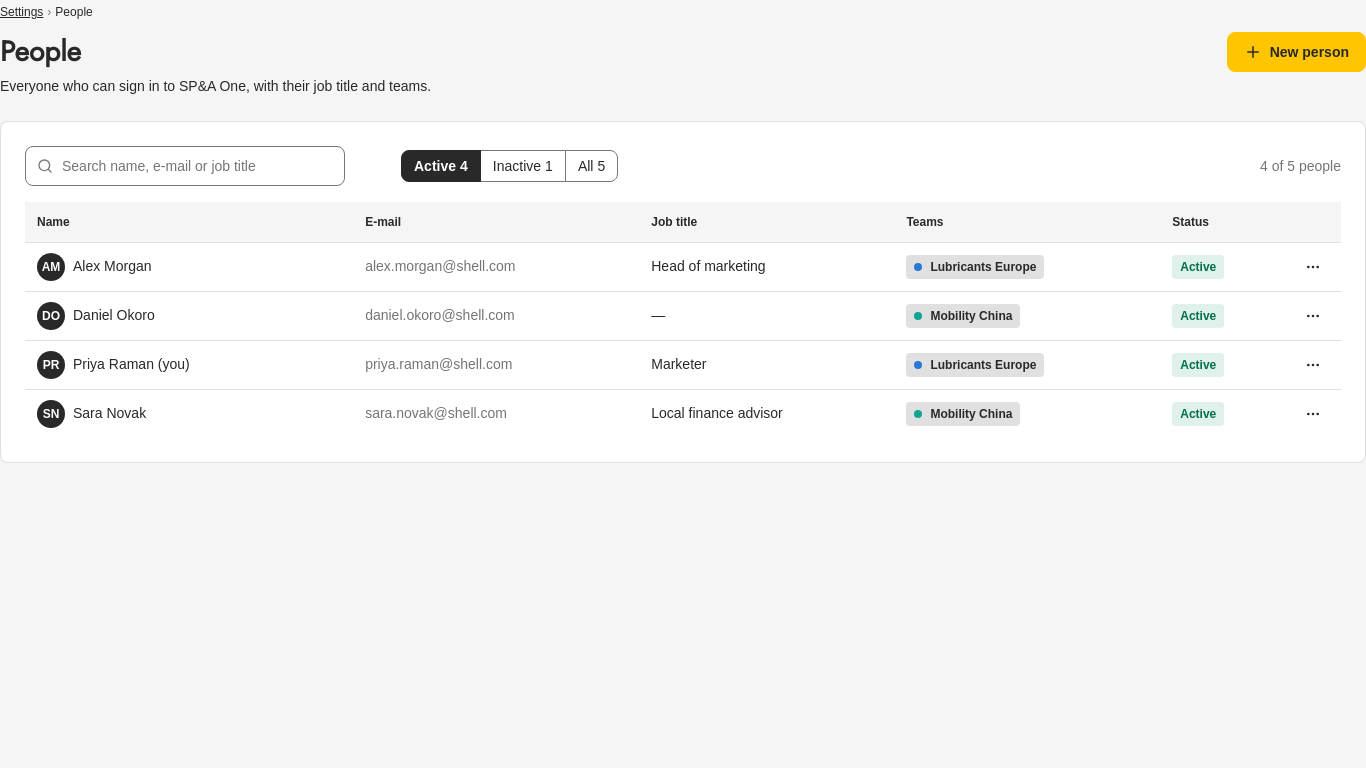
Test: PeoplePage (feature 003, US1): Deactivate and Reactivate › asks before deactivating, with what the person owns and Cancel focused (US1-5)
Click the button named "Actions for Alex Morgan". click: click(1313, 266)
box: [1297, 250, 1329, 282]
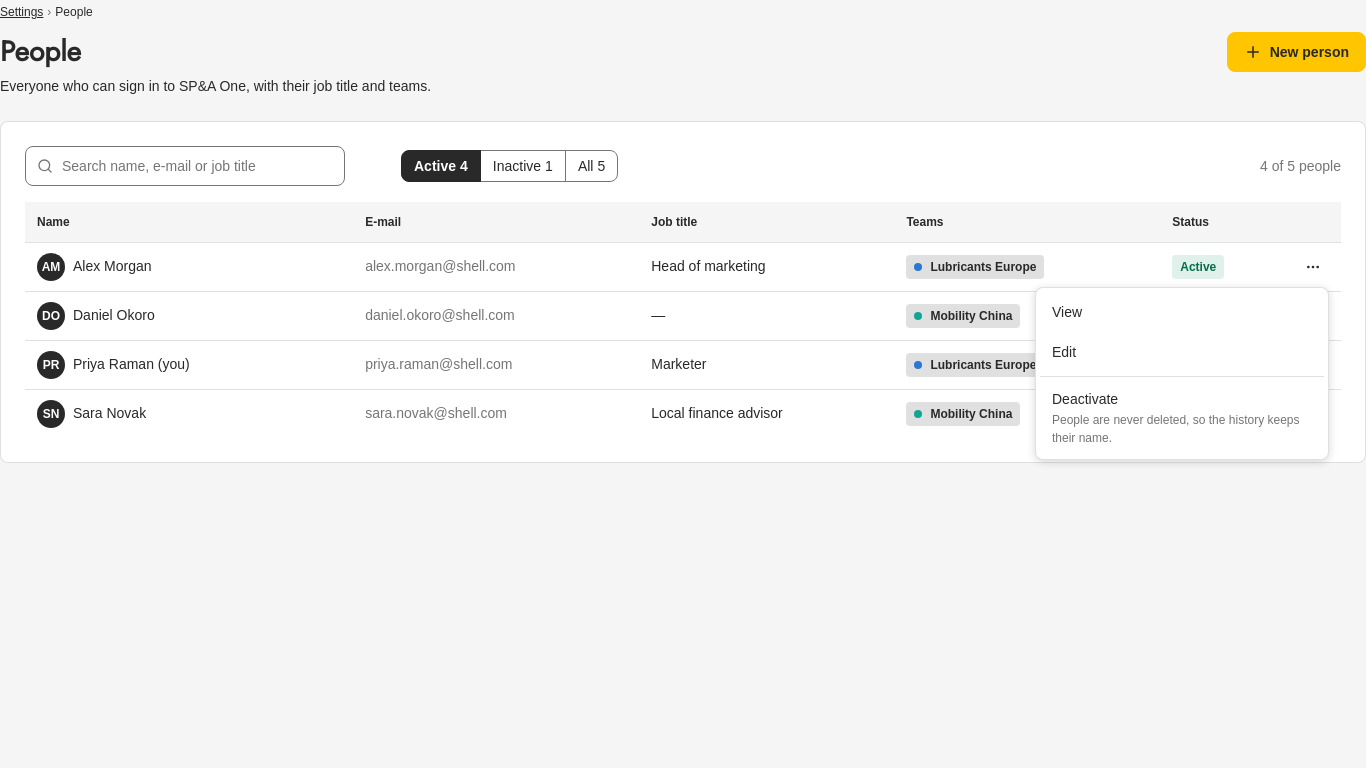
Click the menu item "Deactivate". click: click(1182, 418)
box: [1040, 381, 1324, 455]
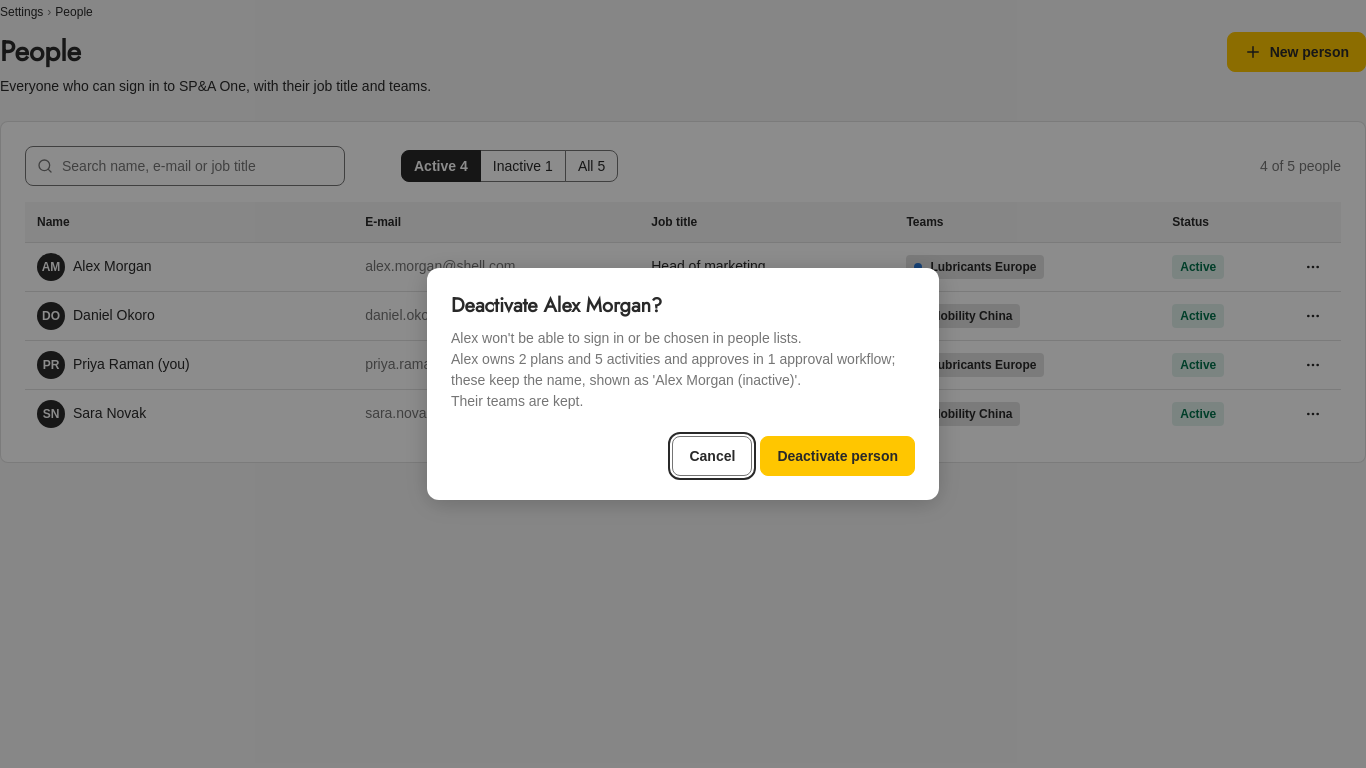
Result: the text "Alex owns 2 plans and 5 activities and approves in 1 approval workflow; these keep the name, shown as 'Alex Morgan (inac" is shown at [451, 351, 895, 388]
Result: the dialog "Deactivate Alex Morgan?" shows "Alex won't be able to sign in or be chosen in people lists." at [451, 330, 802, 346]
Result: the dialog "Deactivate Alex Morgan?" shows "Their teams are kept." at [451, 393, 583, 409]
Click the button "Deactivate person". click: click(838, 456)
box: [760, 436, 915, 476]
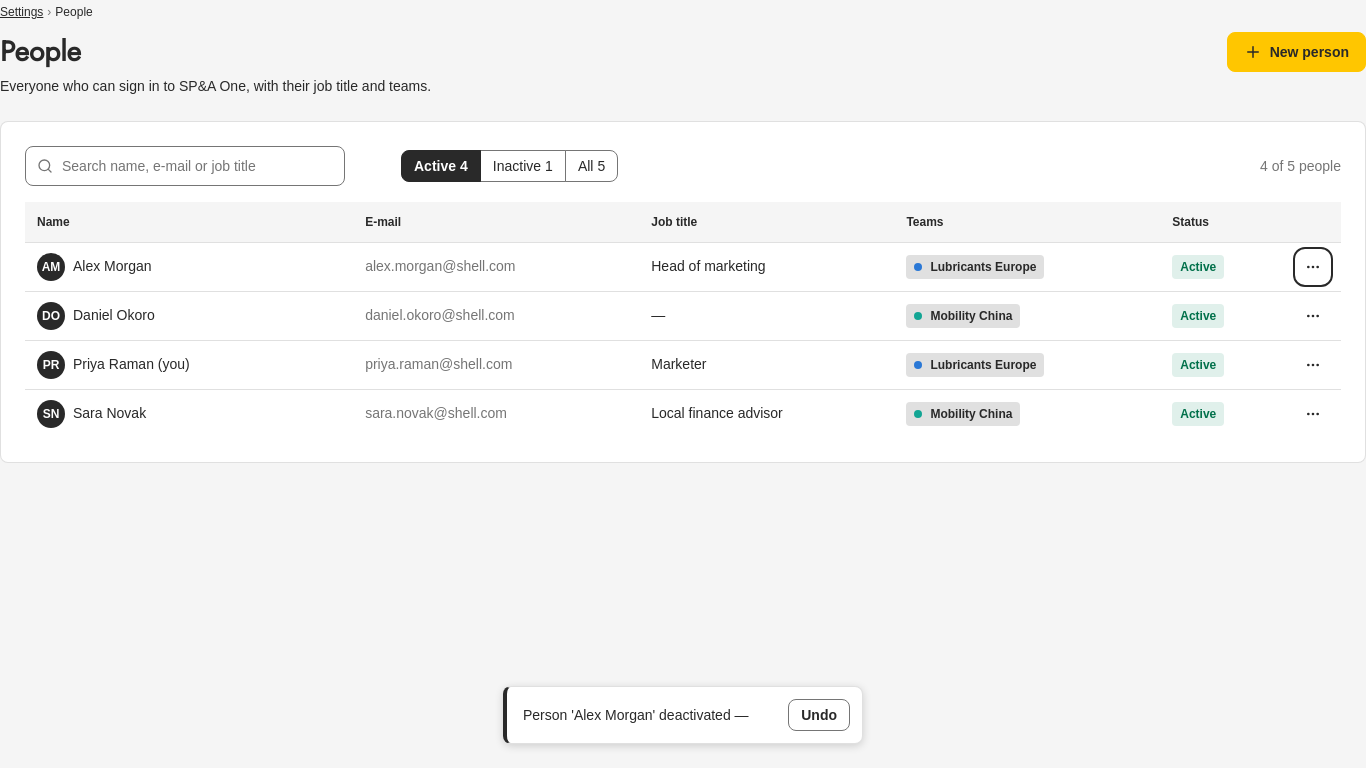
Result: the text "Person 'Alex Morgan' deactivated" is shown at [523, 706, 735, 722]
